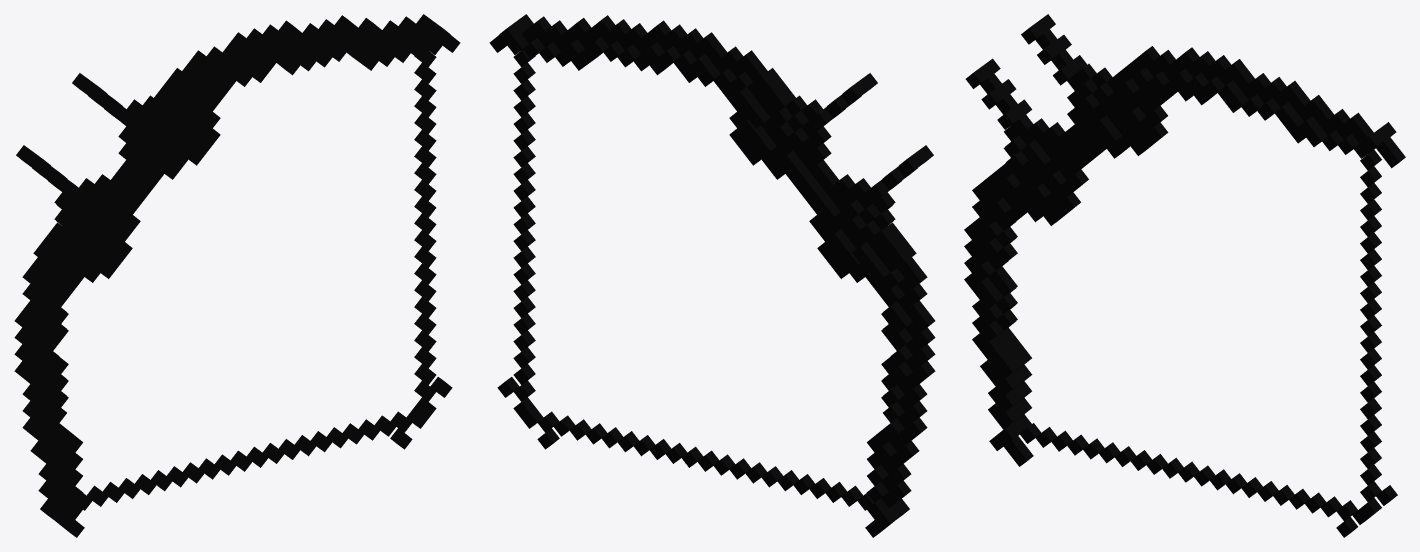
The model's file is chaotic_bow03.obj.
3 renders of one model, left to right at view 1: azimuth 30°, elevation 25°; view 2: azimuth 150°, elevation 25°; view 3: azimuth 330°, elevation 25°, orthographic.
Visible parts, largest first — view 1: chaotic_bow03; view 2: chaotic_bow03; view 3: chaotic_bow03.
Boxes of the visible parts, box(x1,y1,x2,y2) form: chaotic_bow03: box(14, 14, 460, 537); chaotic_bow03: box(489, 14, 935, 537); chaotic_bow03: box(964, 14, 1405, 537).
Bounding box in the file's own units: 1.46 × 1.46 × 0.1875.
